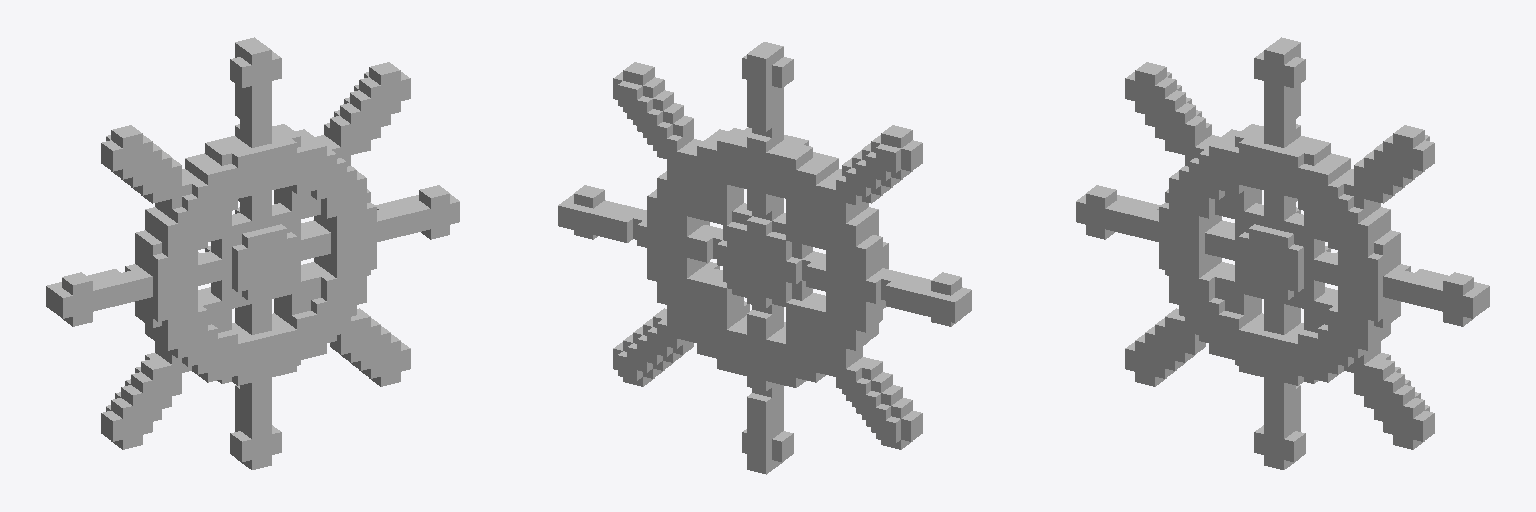
The model's file is wheel.obj.
3 renders of one model, left to right at view 1: azimuth 30°, elevation 25°; view 2: azimuth 150°, elevation 25°; view 3: azimuth 330°, elevation 25°, orthographic.
Visible parts, largest first — view 1: object 1; view 2: object 1; view 3: object 1.
Part boxes in pixels (left/top/right/bottom): object 1: left=46, top=37, right=459, bottom=469; object 1: left=558, top=42, right=971, bottom=474; object 1: left=1076, top=37, right=1489, bottom=469.
Bounding box in the file's own units: 4 × 4 × 0.4.